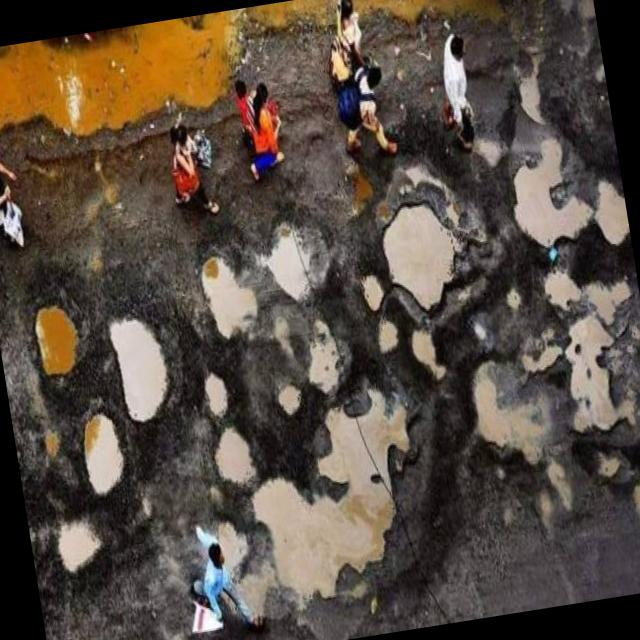Potholes: (0, 0, 536, 182), (211, 374, 446, 628), (372, 191, 480, 324), (497, 132, 600, 262), (560, 307, 640, 454), (460, 348, 556, 470), (101, 303, 180, 430), (247, 211, 331, 312), (23, 292, 98, 396), (192, 241, 266, 345), (72, 398, 138, 502), (298, 306, 355, 406), (577, 257, 640, 331), (50, 515, 115, 584), (399, 313, 454, 391), (580, 165, 632, 246), (211, 418, 260, 502), (208, 502, 255, 574), (518, 321, 571, 374), (540, 266, 593, 318), (513, 66, 553, 130), (269, 368, 306, 425), (200, 368, 237, 423), (355, 265, 391, 317), (501, 278, 532, 325), (371, 316, 404, 355), (40, 421, 64, 462)
